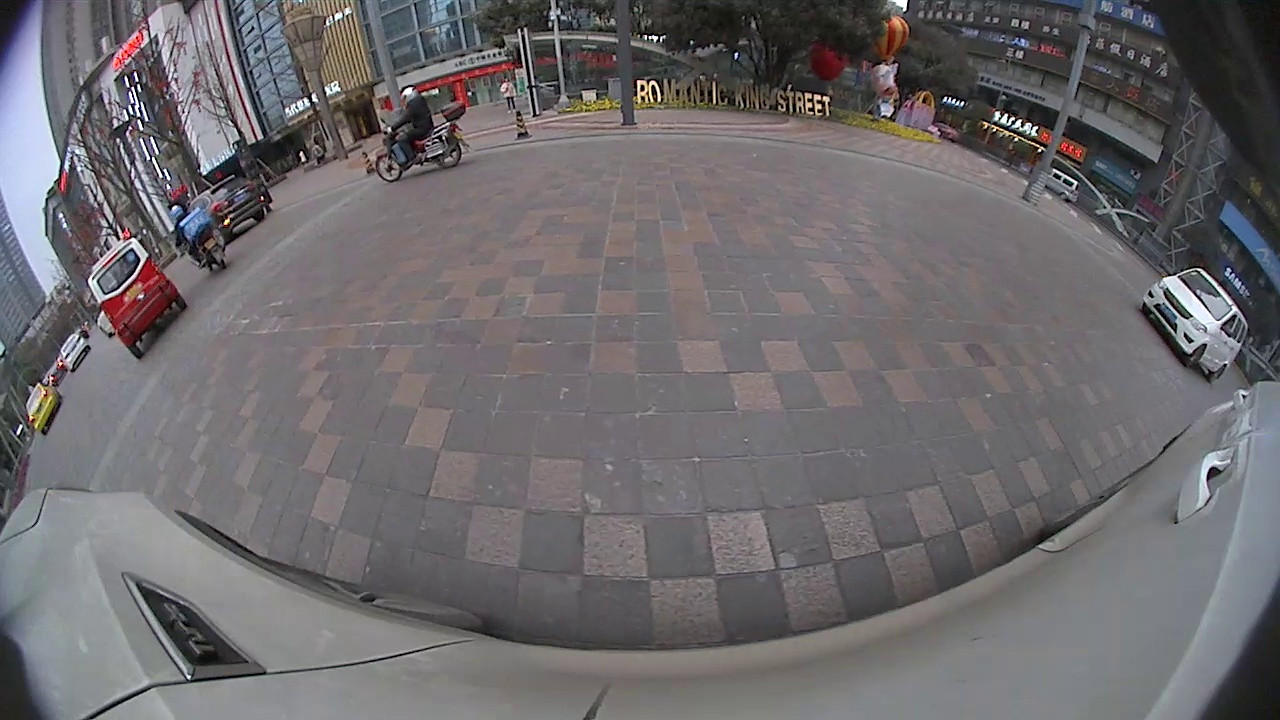car: (1144, 268, 1249, 381), (194, 177, 265, 222), (25, 382, 63, 433), (59, 333, 88, 371), (1046, 169, 1079, 200)
front: (373, 153, 403, 184), (1180, 340, 1210, 369)
person: (504, 77, 515, 116)
rear: (432, 141, 464, 170), (1207, 361, 1230, 385)
rider: (89, 239, 186, 359), (372, 84, 468, 183), (166, 208, 234, 268)
